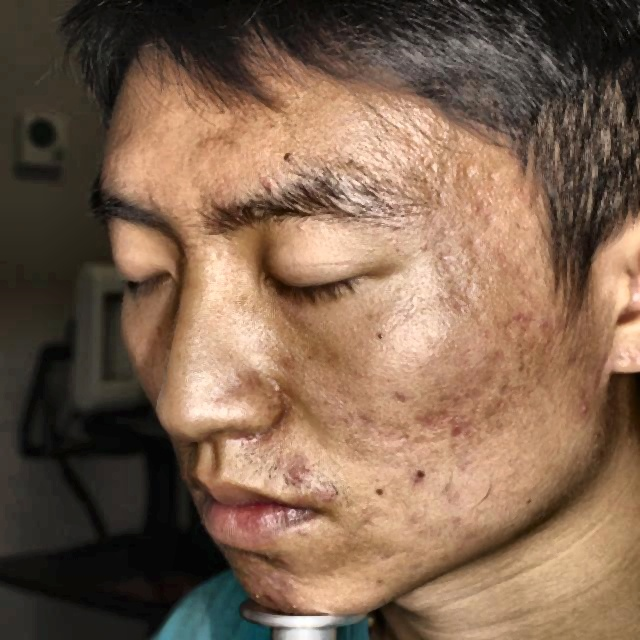comedone: (441, 420, 467, 448), (248, 586, 270, 608), (577, 397, 593, 425), (286, 597, 308, 611)
